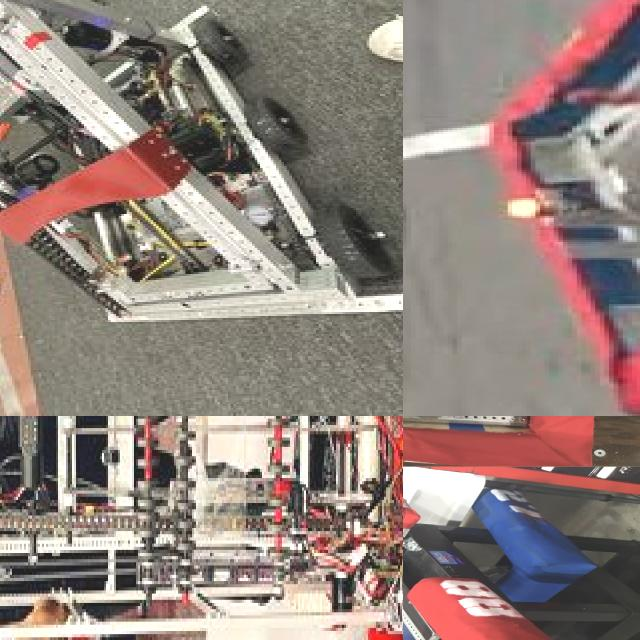FRC-Robots: (0, 0, 403, 354), (0, 416, 403, 640), (506, 0, 640, 416), (403, 466, 629, 640)
